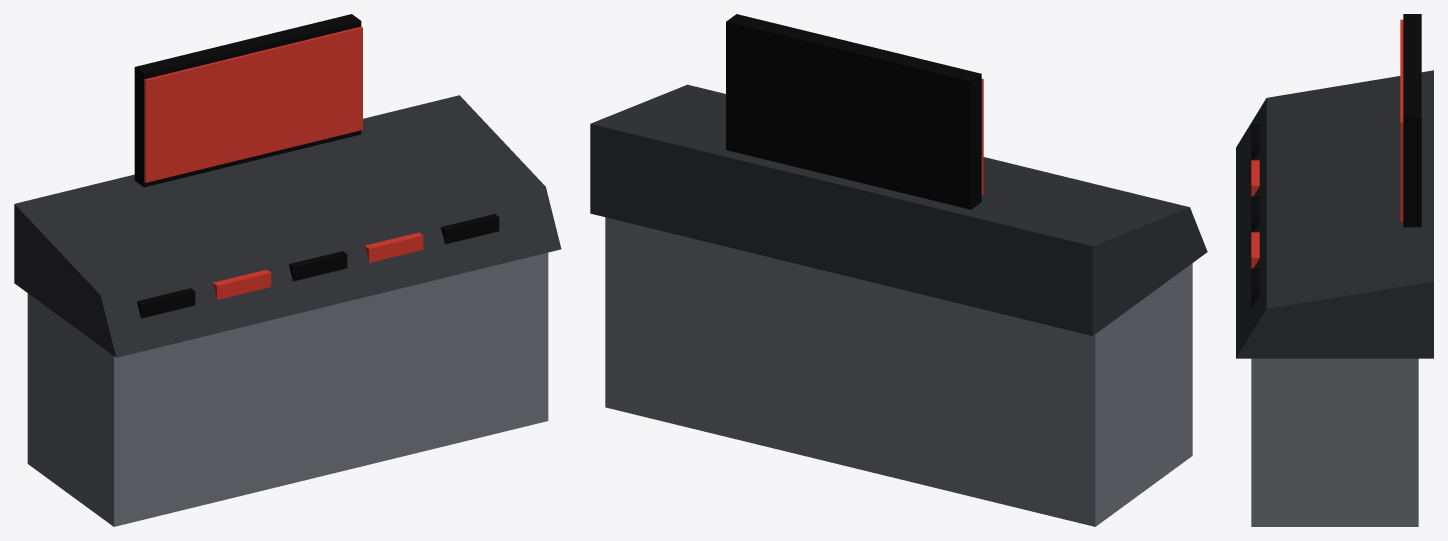
File: tech_console_desk.glb
3 views of the same model, side by side, from view 1: azimuth 30°, elevation 25°; view 2: azimuth 150°, elevation 25°; view 3: azimuth 270°, elevation 25° (orthographic). The views are drawn at different scales.
Parts seen in each view (by area): view 1: sw5e_int_tech_console_desk; view 2: sw5e_int_tech_console_desk; view 3: sw5e_int_tech_console_desk.
Boxes of the visible parts, x1=… form: sw5e_int_tech_console_desk: x1=14, y1=14, x2=561, y2=526; sw5e_int_tech_console_desk: x1=590, y1=14, x2=1207, y2=526; sw5e_int_tech_console_desk: x1=1236, y1=14, x2=1433, y2=526.
Size of the model in its own units: 1.64 by 1.3 by 0.65.
